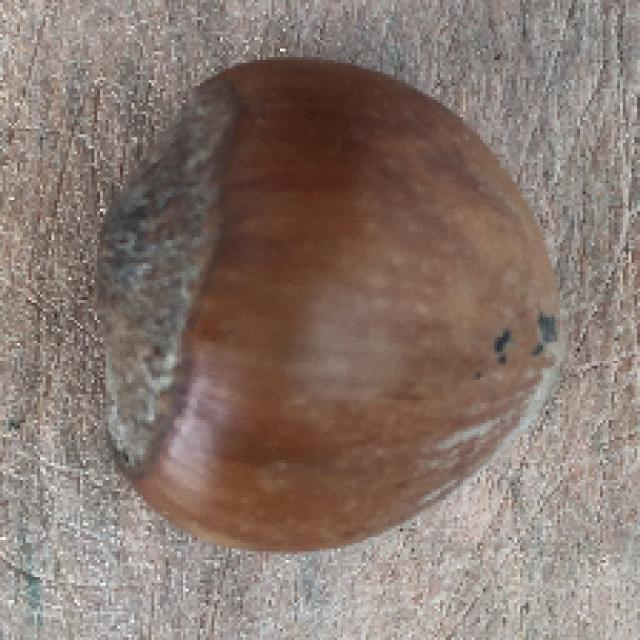damagedHazelnut: (86, 49, 570, 555)
